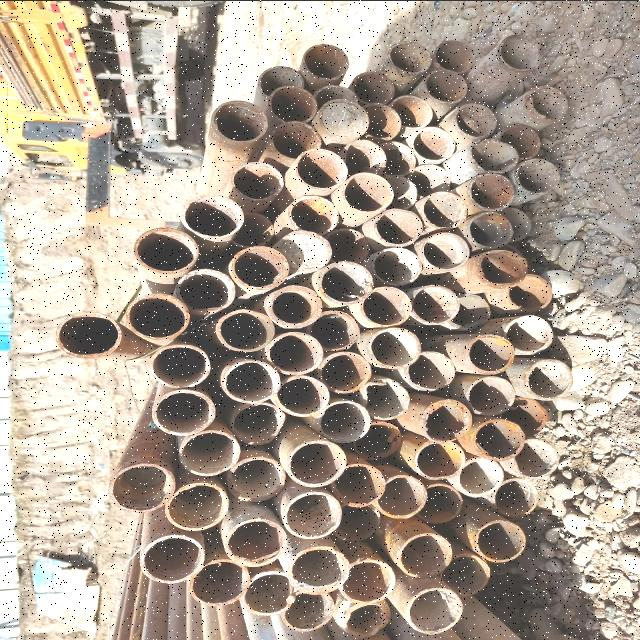pipe: (140, 533, 206, 583), (109, 462, 174, 512), (224, 516, 288, 566), (164, 481, 228, 530), (54, 311, 122, 357), (133, 226, 199, 272), (124, 292, 190, 338), (288, 545, 350, 593), (150, 388, 214, 434), (282, 490, 342, 538), (148, 342, 210, 388), (178, 429, 240, 475), (286, 439, 346, 486), (405, 585, 463, 633), (189, 558, 249, 604), (226, 455, 286, 501), (182, 193, 244, 237), (175, 266, 235, 310), (338, 557, 394, 603), (230, 244, 288, 288), (216, 307, 274, 351), (222, 359, 280, 403), (210, 99, 268, 142), (398, 531, 452, 577), (330, 462, 386, 506), (240, 568, 292, 614), (278, 228, 332, 272), (267, 283, 321, 327), (268, 330, 322, 374), (273, 374, 329, 416), (374, 473, 426, 517), (420, 397, 472, 441), (230, 402, 284, 444), (318, 260, 372, 302), (317, 350, 371, 392), (294, 147, 348, 188), (280, 589, 334, 630), (304, 308, 358, 349), (318, 399, 370, 441), (359, 284, 411, 326), (368, 326, 420, 368), (472, 418, 524, 460), (439, 552, 489, 595), (476, 518, 526, 561), (230, 160, 284, 199), (410, 282, 460, 324), (342, 171, 394, 211), (404, 350, 456, 390), (524, 357, 572, 399), (270, 119, 320, 159), (288, 194, 338, 234), (318, 97, 368, 137), (331, 501, 381, 541), (372, 245, 422, 285), (414, 439, 464, 479), (498, 395, 548, 435), (362, 377, 408, 419), (414, 482, 462, 522), (466, 333, 514, 373), (466, 374, 514, 414), (454, 456, 502, 496), (268, 84, 318, 122), (351, 420, 401, 458), (476, 248, 526, 286), (503, 314, 553, 352), (512, 437, 558, 478), (421, 230, 468, 270), (492, 476, 538, 516), (373, 207, 421, 245), (342, 138, 387, 178), (421, 190, 467, 228), (468, 172, 514, 210), (506, 272, 552, 310), (324, 226, 369, 264), (228, 210, 274, 247), (468, 137, 518, 171), (302, 42, 349, 78), (468, 210, 512, 248), (342, 600, 388, 636), (410, 125, 456, 161), (446, 292, 490, 329), (497, 33, 542, 69), (359, 101, 401, 139), (515, 157, 559, 193), (454, 102, 496, 138), (350, 70, 394, 104), (388, 94, 432, 128), (406, 163, 450, 197), (423, 68, 467, 102), (257, 65, 305, 96), (498, 123, 540, 158), (388, 40, 432, 72), (434, 38, 474, 73), (528, 84, 568, 119), (312, 84, 358, 114), (378, 140, 416, 176), (380, 174, 418, 209), (495, 206, 531, 242)
